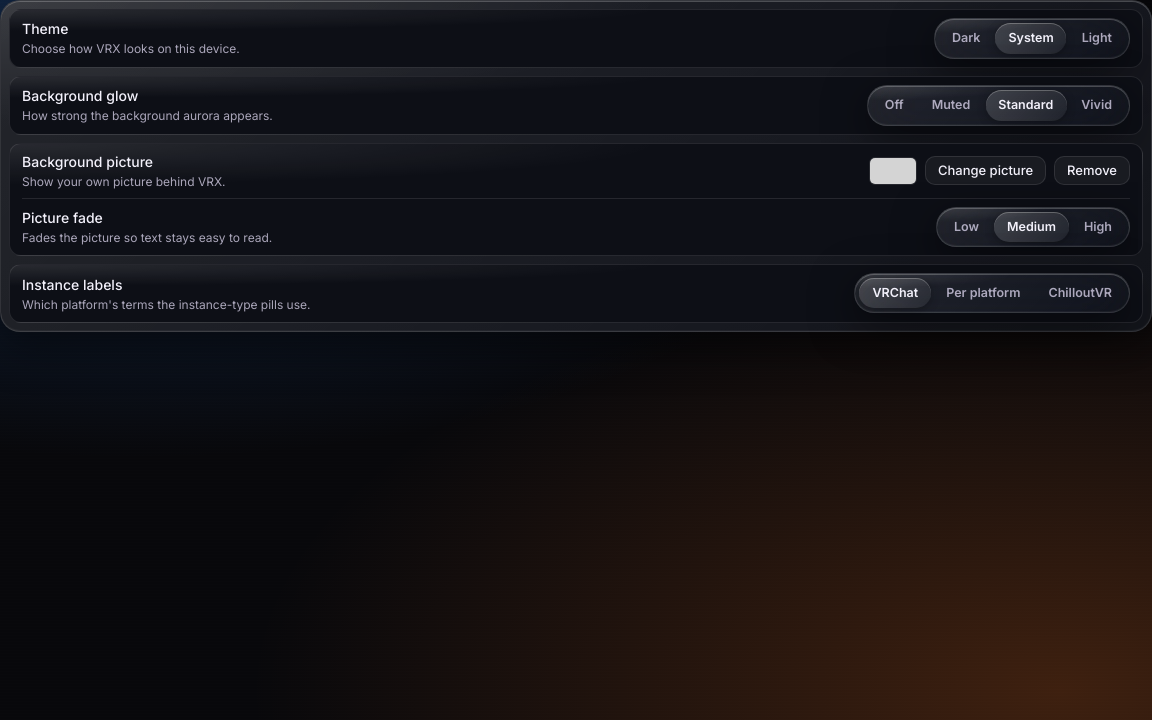
Test: SettingsView — background picture › removes the picture and returns focus to Choose picture
The width and height of the screenshot is (1152, 720).
Click the button "Remove". click: (1092, 171)
box: [1054, 156, 1130, 185]
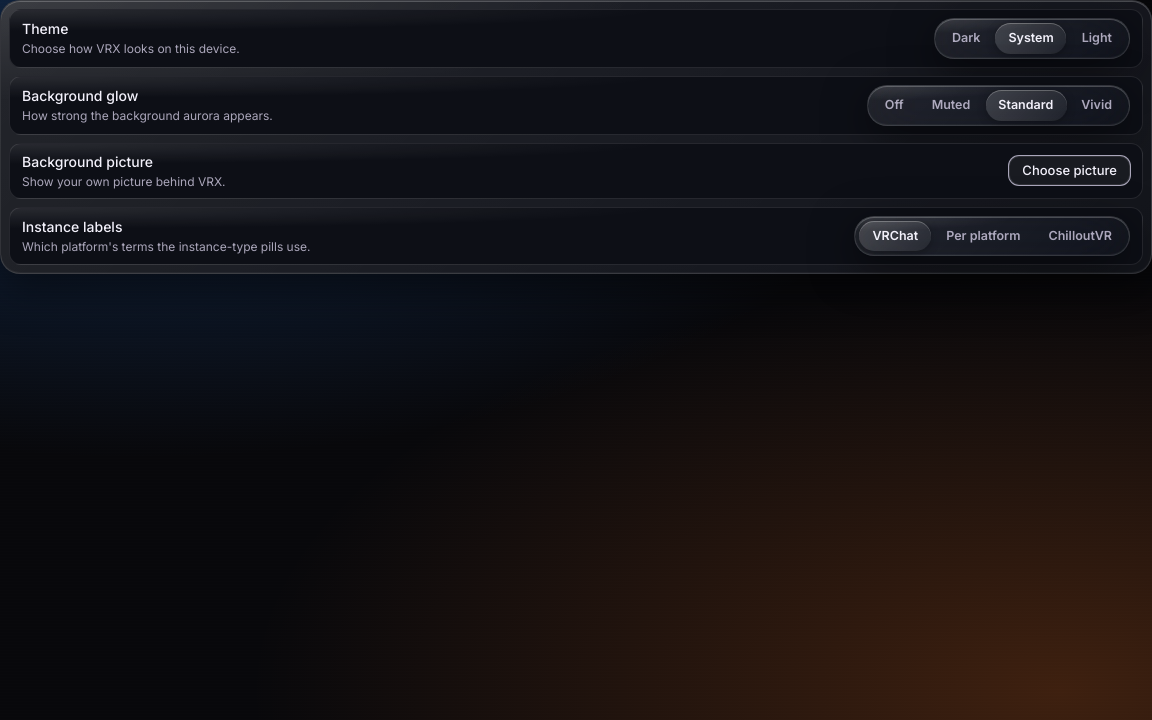
Now the picture with test id "background-picture-thumb" is gone
